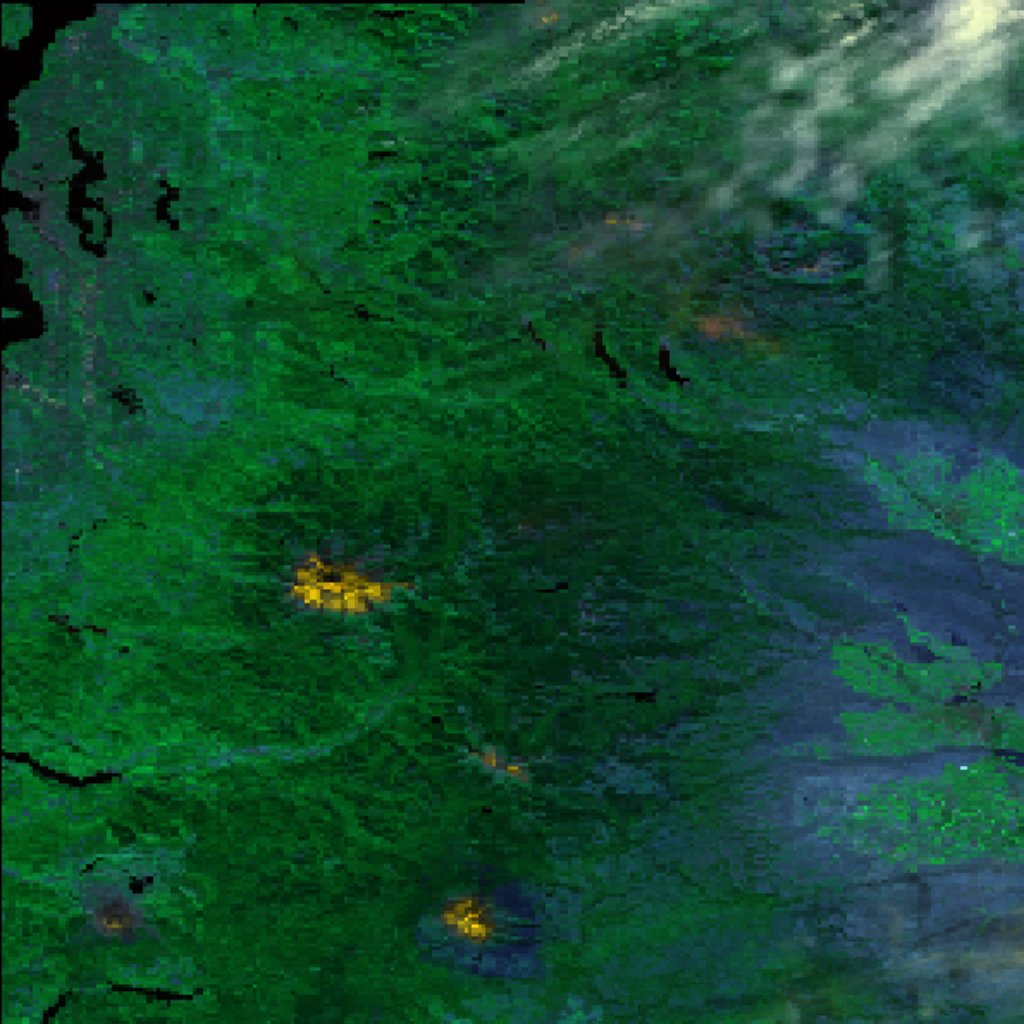fire: (2, 0, 1024, 1024)
